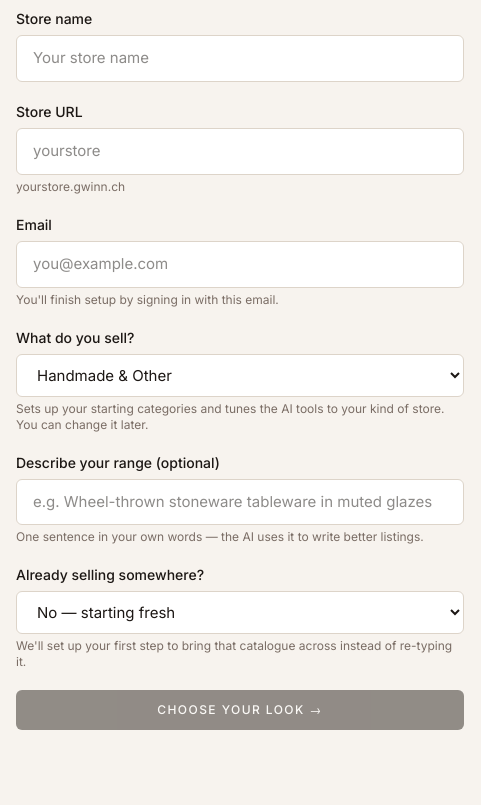
Test: Signup wizard › reassures a switcher about what happens to their catalogue
(page scrolled)
Expected: the text "Export your items as CSV" is not shown
Select "Yes — Worldline / SIX" in the 2nd dropdown at (240, 613), box top-left (16, 591), bottom-right (464, 634)
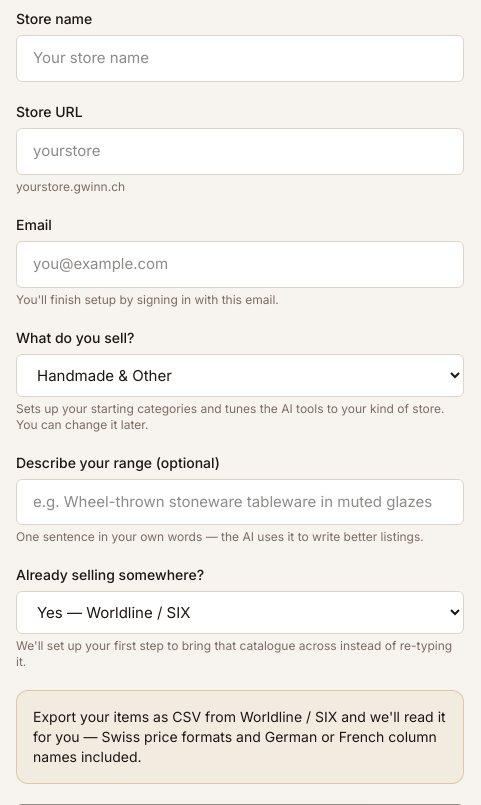
Now the text "Worldline / SIX" is shown, box top-left (33, 708), bottom-right (446, 765)
Now the text "Export your items as CSV" is shown, box top-left (33, 708), bottom-right (446, 765)
# Stripe gets the one-click promise instead of the CSV instructions.
Select "Yes — Stripe" in the 2nd dropdown at (240, 613), box top-left (16, 591), bottom-right (464, 634)
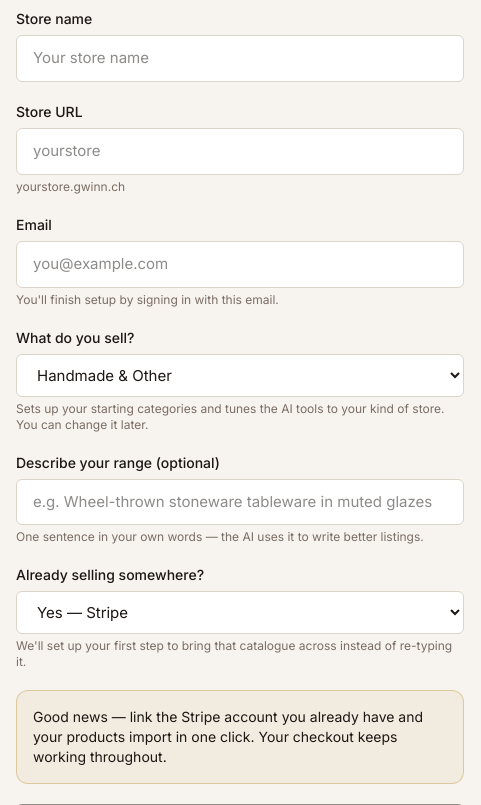
Now the text "one click" is shown, box top-left (33, 708), bottom-right (423, 765)
Now the text "Export your items as CSV" is gone
# "Somewhere else" has no importer of its own, so it promises nothing.
Select "Somewhere else" in the 2nd dropdown at (240, 613), box top-left (16, 591), bottom-right (464, 634)
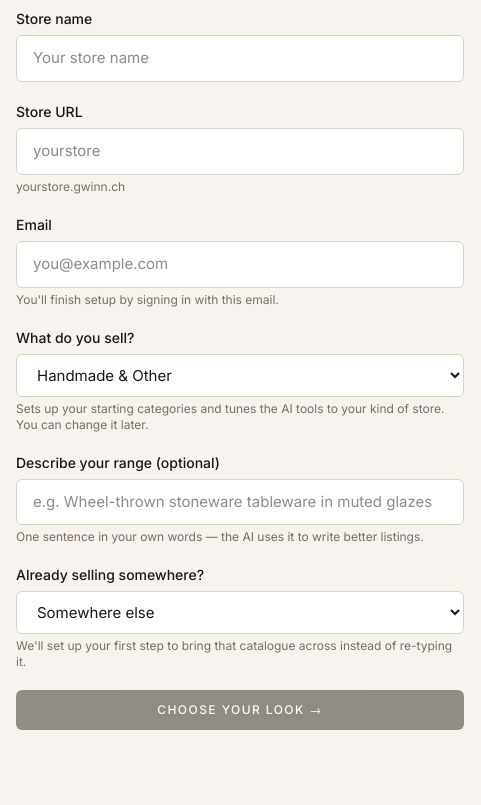
Expected: the text "Export your items as CSV" is not shown
Now the text "one click" is gone
